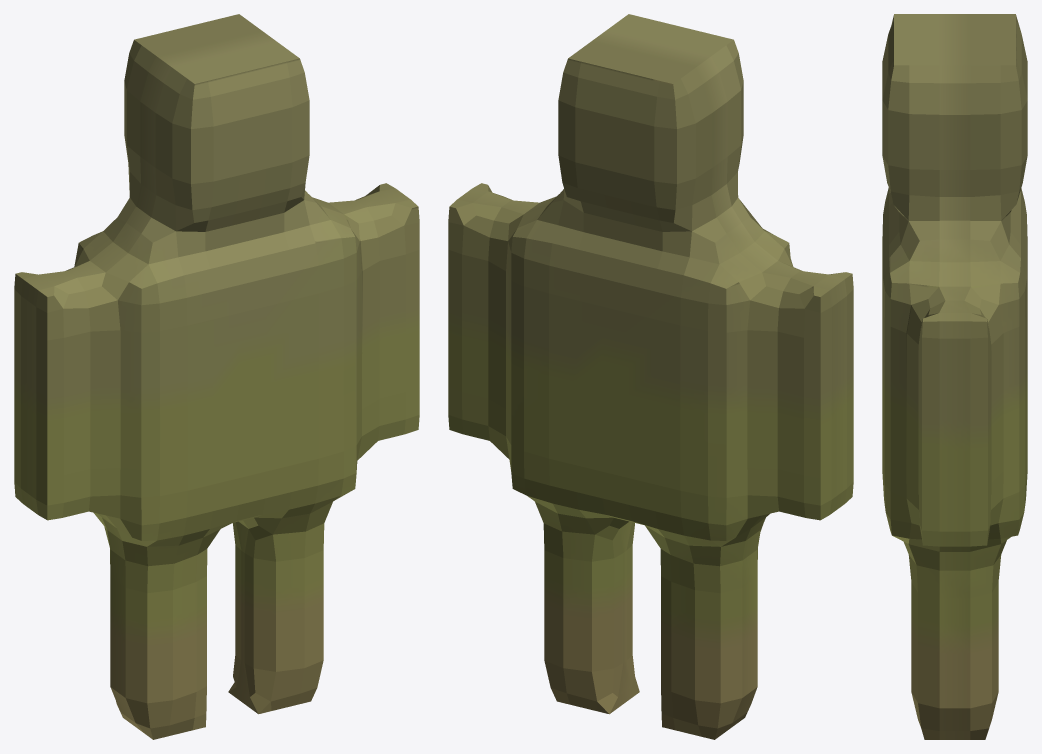
File: medusa.glb
3 renders of one model, left to right at view 1: azimuth 30°, elevation 25°; view 2: azimuth 150°, elevation 25°; view 3: azimuth 270°, elevation 25°, orthographic.
Visible parts, largest first — view 1: geometry_0; view 2: geometry_0; view 3: geometry_0.
Boxes of the visible parts, <box> form: geometry_0: <box>14,14,419,739</box>; geometry_0: <box>448,14,853,739</box>; geometry_0: <box>882,14,1027,739</box>.
Size of the model in its own units: 0.597 by 1 by 0.199.
1 material, 1 textured.
